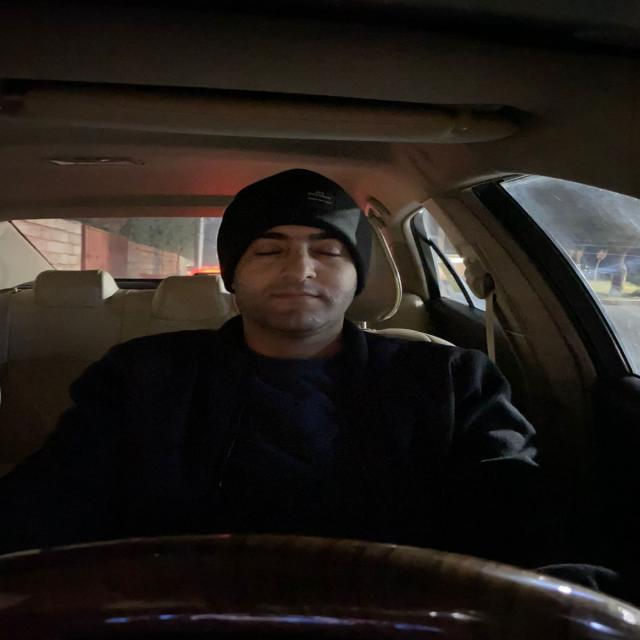drowsy: (210, 163, 378, 355)
